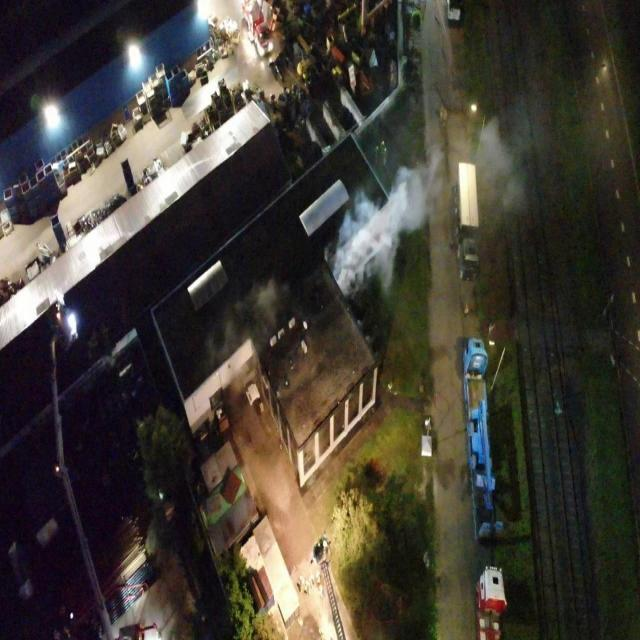Smoke: (324, 114, 528, 304), (207, 276, 316, 397)
